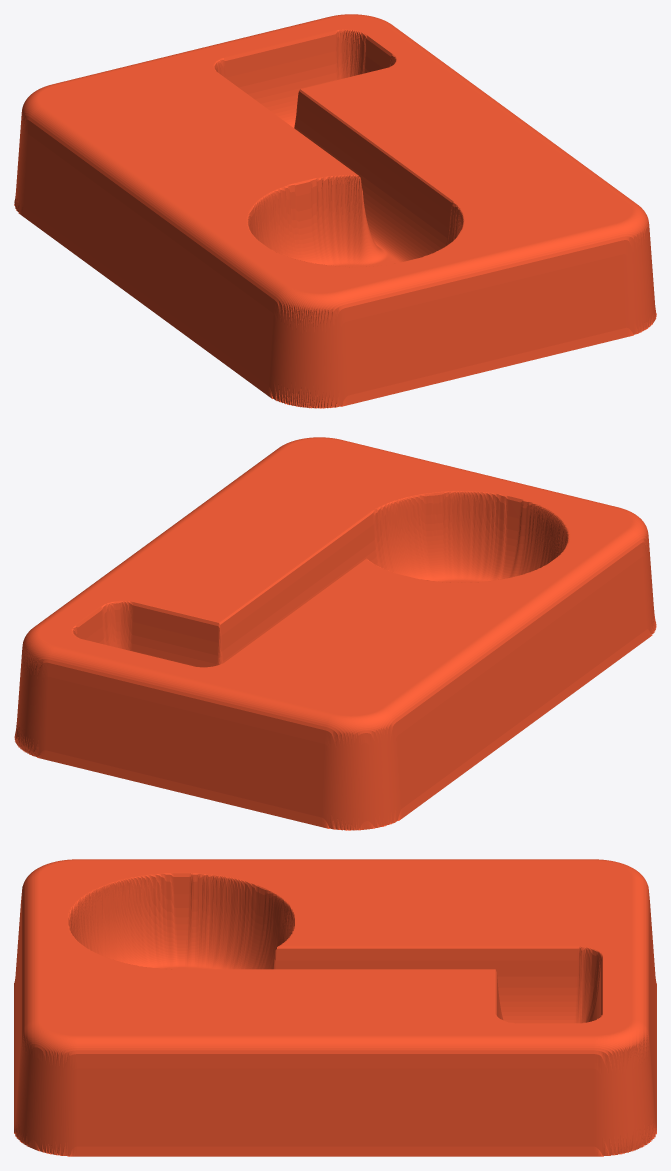
The model's file is mold.glb.
The picture shows the model from 3 angles, top to bottom: view 1: azimuth 30°, elevation 25°; view 2: azimuth 150°, elevation 25°; view 3: azimuth 270°, elevation 25°; orthographic projection. The views are drawn at different scales.
Visible parts, largest first — view 1: geometry_0; view 2: geometry_0; view 3: geometry_0.
Part boxes in pixels (<box>): geometry_0: <box>14,14,656,408</box>; geometry_0: <box>14,437,656,830</box>; geometry_0: <box>14,859,656,1156</box>.
Bounding box in the file's own units: 0.0666 × 0.0175 × 0.0924.
